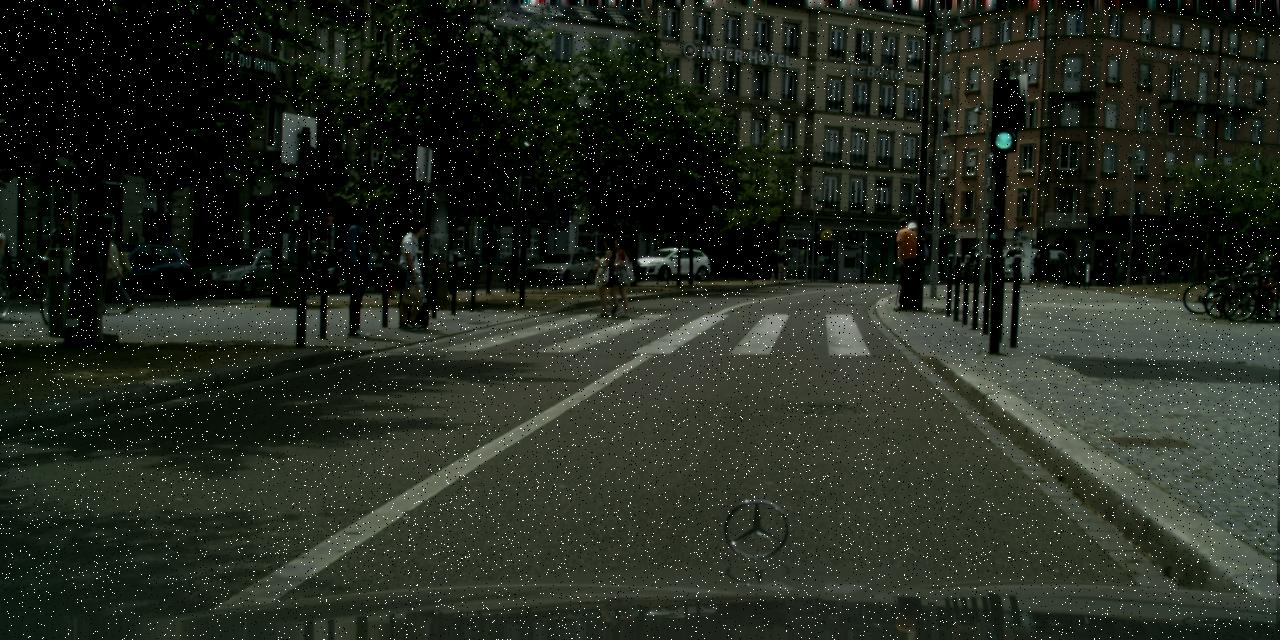ped: (330, 205, 384, 339), (392, 219, 437, 331), (884, 217, 922, 311), (44, 210, 79, 298), (92, 229, 127, 313), (590, 234, 624, 318), (895, 220, 927, 300), (603, 238, 635, 318), (1032, 242, 1050, 288), (1009, 241, 1027, 286), (767, 247, 780, 281), (774, 248, 787, 280)
